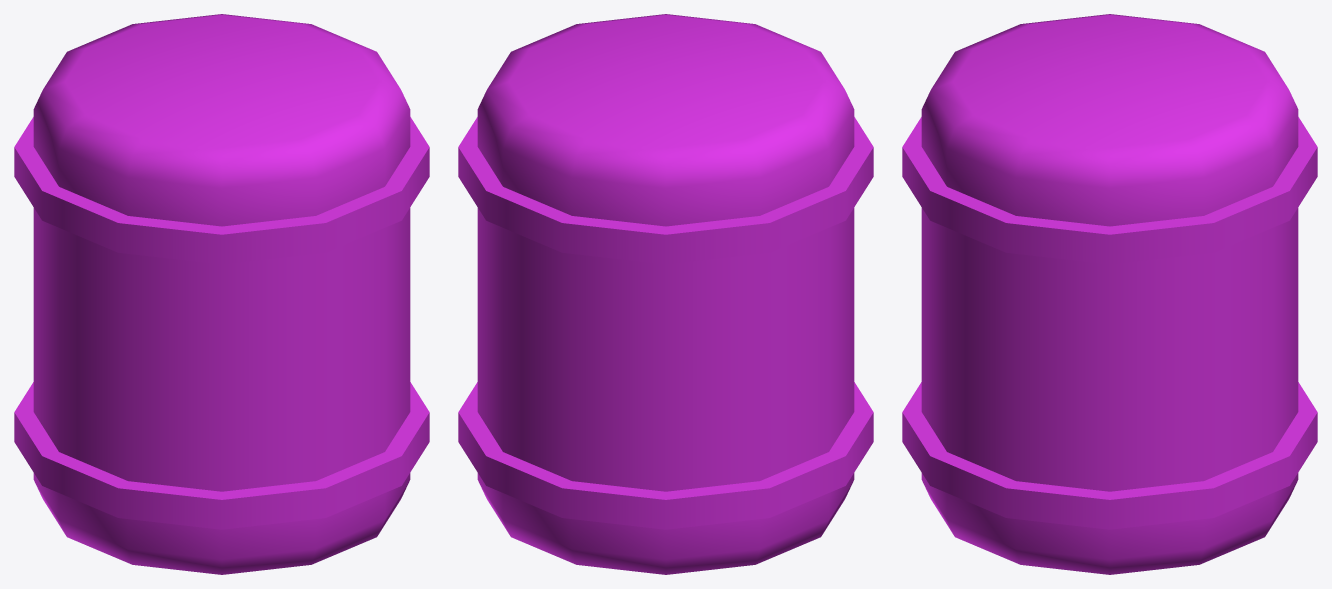
File: Coper_Boiler_Small.fbx
3 views of the same model, side by side, from view 1: azimuth 30°, elevation 25°; view 2: azimuth 150°, elevation 25°; view 3: azimuth 270°, elevation 25° (orthographic).
Parts seen in each view (by area): view 1: Cylinder.010; view 2: Cylinder.010; view 3: Cylinder.010.
Part boxes in pixels (<box>): Cylinder.010: <box>14,14,429,574</box>; Cylinder.010: <box>458,14,873,574</box>; Cylinder.010: <box>902,14,1317,574</box>.
Bounding box in the file's own units: 51.83 × 58.6 × 51.83.
